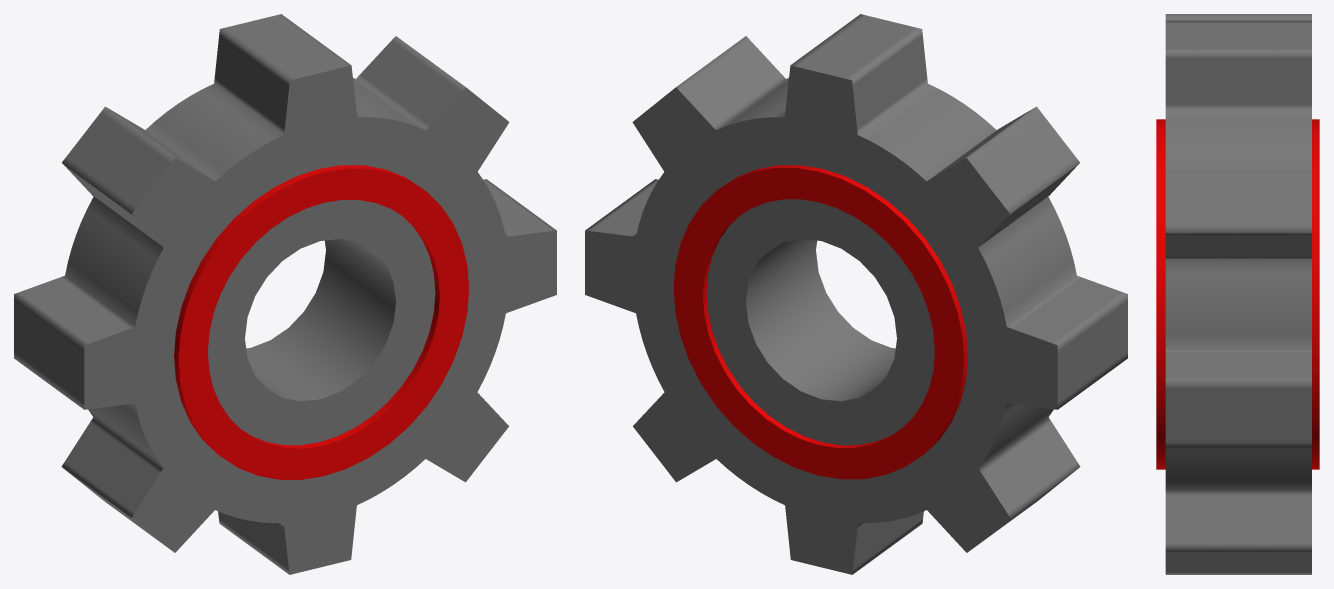
The model's file is Tuerca_2.fbx.
3 views of the same model, side by side, from view 1: azimuth 30°, elevation 25°; view 2: azimuth 150°, elevation 25°; view 3: azimuth 270°, elevation 25° (orthographic). The views are drawn at different scales.
Parts seen in each view (by area): view 1: pCylinder5; view 2: pCylinder5; view 3: pCylinder5.
Boxes of the visible parts, x1,y1,x2,y2 form: pCylinder5: (14,14,556,574); pCylinder5: (585,14,1127,574); pCylinder5: (1156,14,1319,574).
Bounding box in the file's own units: 1.17 × 1.17 × 0.3372.
